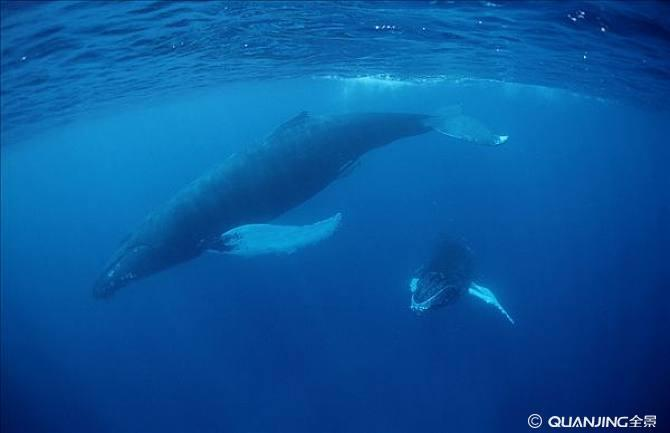fish: (85, 80, 509, 300), (396, 210, 518, 330)
